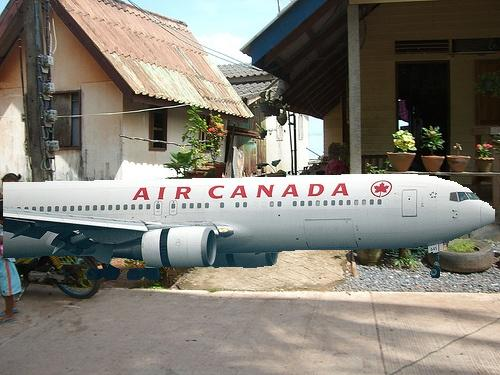tampered: (4, 172, 495, 280)
